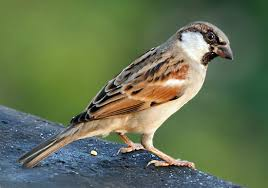hsparrow: (18, 14, 235, 175)
